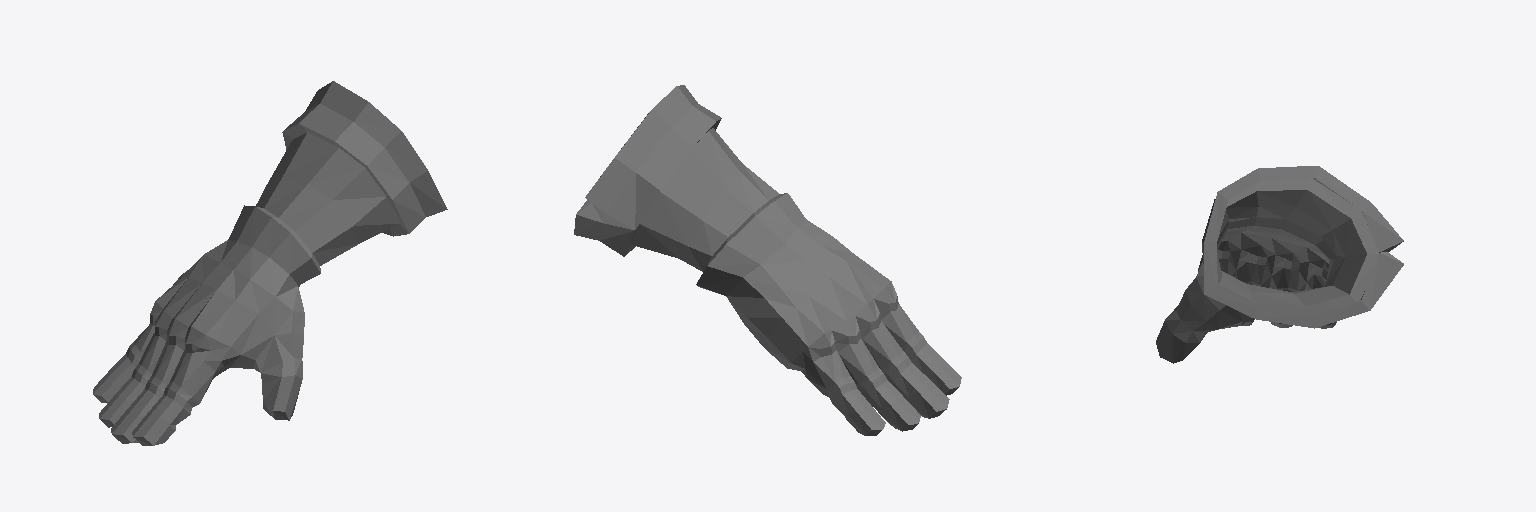
The model's file is Hand.obj.
The picture shows the model from 3 angles: view 1: azimuth 30°, elevation 25°; view 2: azimuth 150°, elevation 25°; view 3: azimuth 270°, elevation 25°; orthographic projection.
Parts seen in each view (by area): view 1: Salazar_Geo1 Salazar; view 2: Salazar_Geo1 Salazar; view 3: Salazar_Geo1 Salazar.
Boxes of the visible parts, x1,y1,x2,y2 form: Salazar_Geo1 Salazar: [93, 81, 447, 445]; Salazar_Geo1 Salazar: [574, 85, 961, 435]; Salazar_Geo1 Salazar: [1156, 166, 1403, 363].
Size of the model in its own units: 47.29 by 38.45 by 31.52.